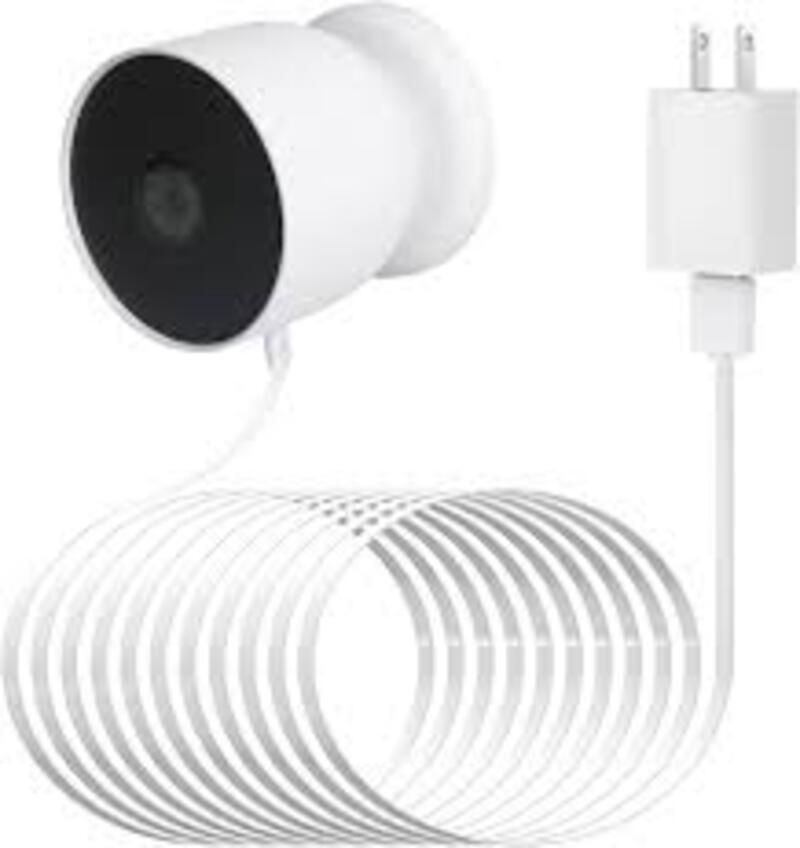nest: (41, 18, 426, 356)
